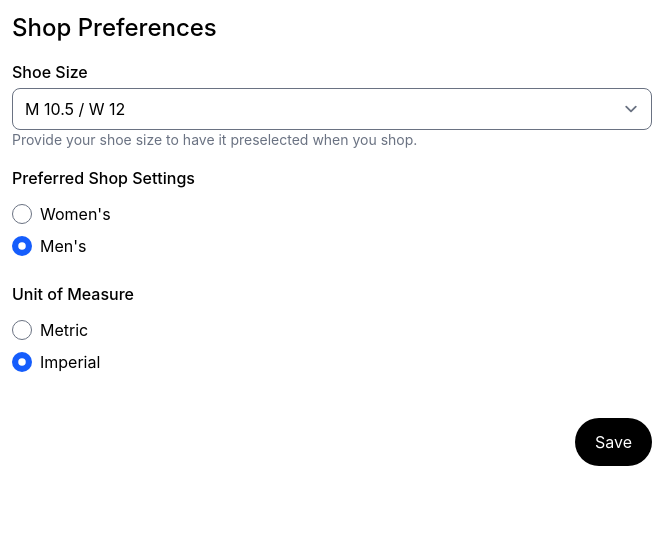
Test: shows a success message after saving shop preferences
Click the radio button labelled "Women's".
click(22, 214)  # box [12,204,32,224]
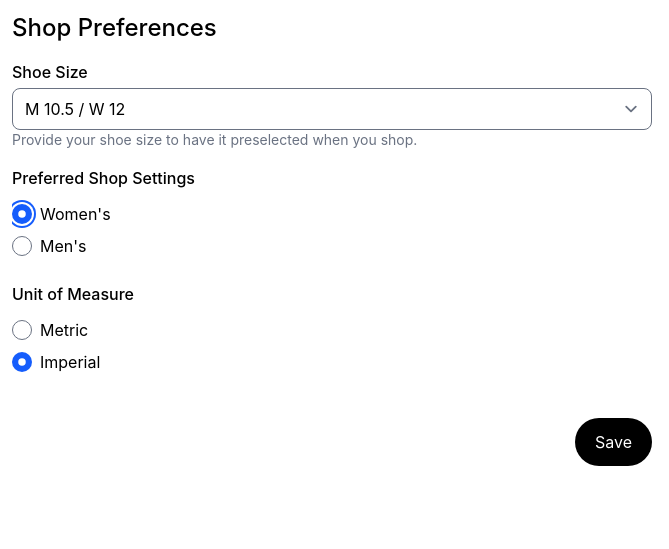
Click the button "Save".
click(614, 442)  # box [575,418,652,466]
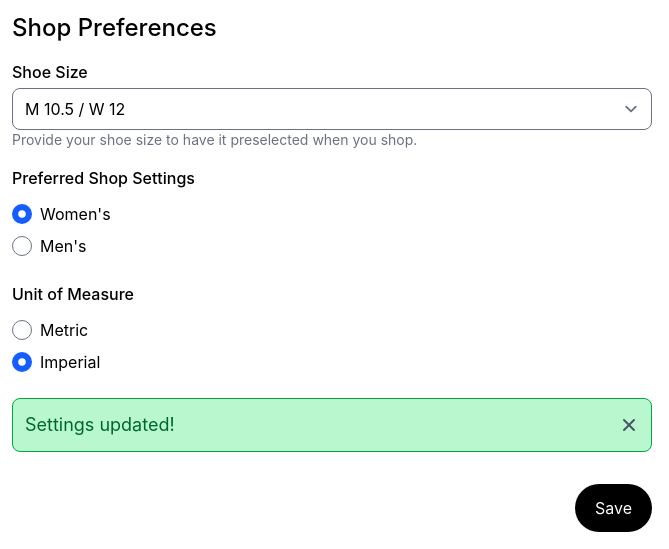
Check: the text "Settings updated!" is shown, box [25,411,175,439]
